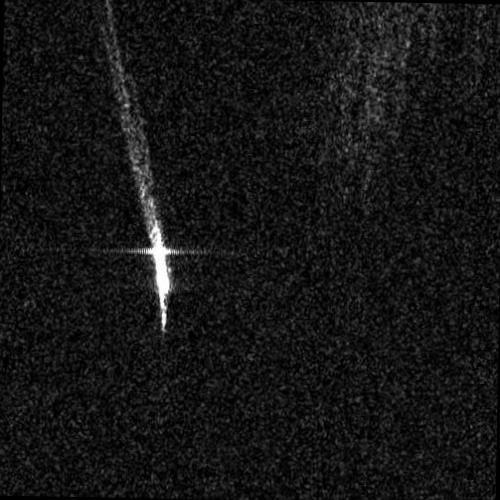ship: (148, 218, 171, 307)
